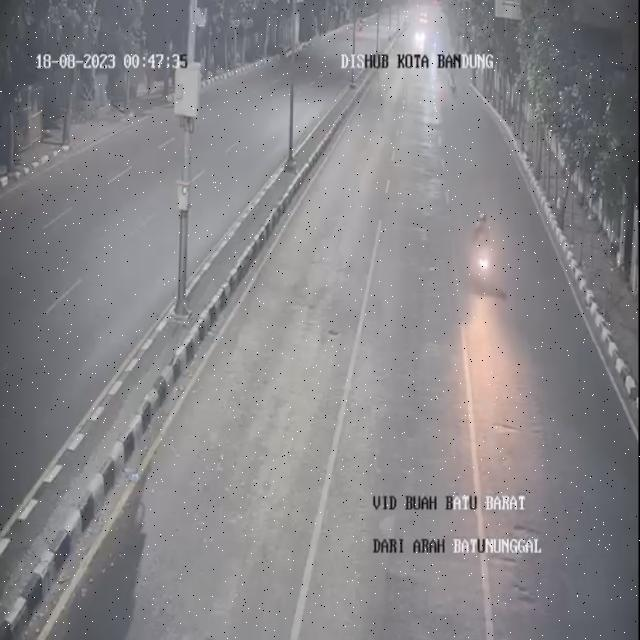motorcycle: (461, 206, 496, 294)
